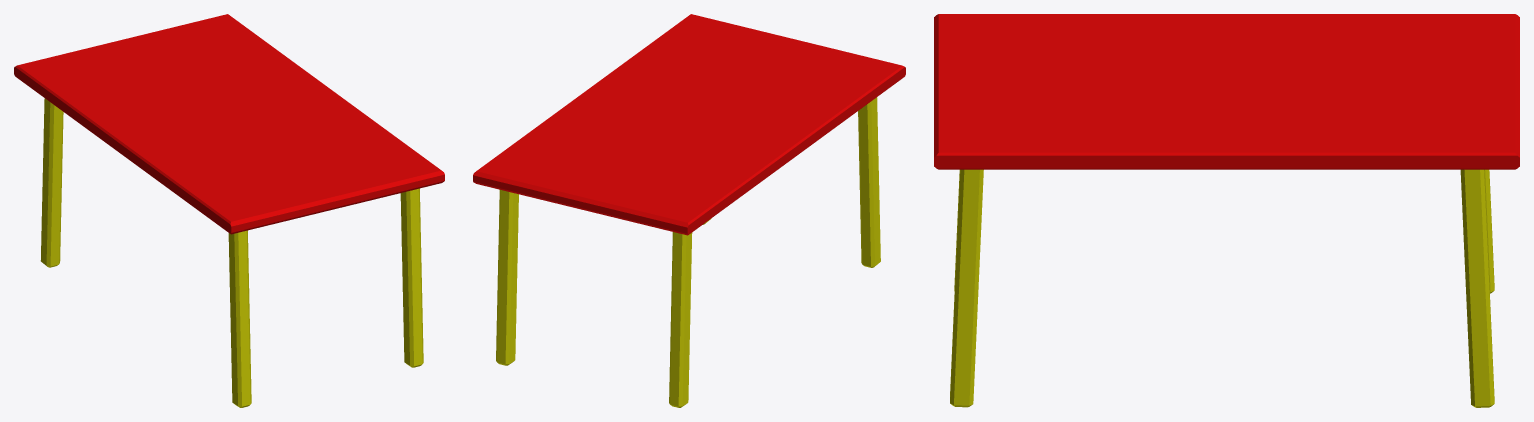
The model's file is Table_Mesh_001.fbx.
3 renders of one model, left to right at view 1: azimuth 30°, elevation 25°; view 2: azimuth 150°, elevation 25°; view 3: azimuth 270°, elevation 25°, orthographic. The views are drawn at different scales.
Visible parts, largest first — view 1: polySurface2; view 2: polySurface2; view 3: polySurface2.
Boxes of the visible parts, x1,y1,x2,y2 form: polySurface2: (14, 14, 444, 407); polySurface2: (473, 14, 905, 407); polySurface2: (934, 14, 1519, 407).
Bounding box in the file's own units: 100 × 88 × 177.
